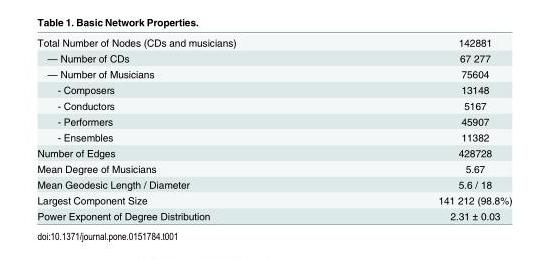table: (36, 36, 511, 221)
table column: (36, 36, 336, 221), (336, 36, 511, 221)
table row: (36, 65, 511, 81), (36, 81, 511, 97), (36, 97, 511, 113), (36, 128, 511, 144), (36, 144, 511, 160), (36, 160, 511, 176), (36, 176, 511, 192), (36, 50, 511, 65), (36, 113, 511, 128), (36, 192, 511, 207), (36, 36, 511, 50), (36, 207, 511, 221)
